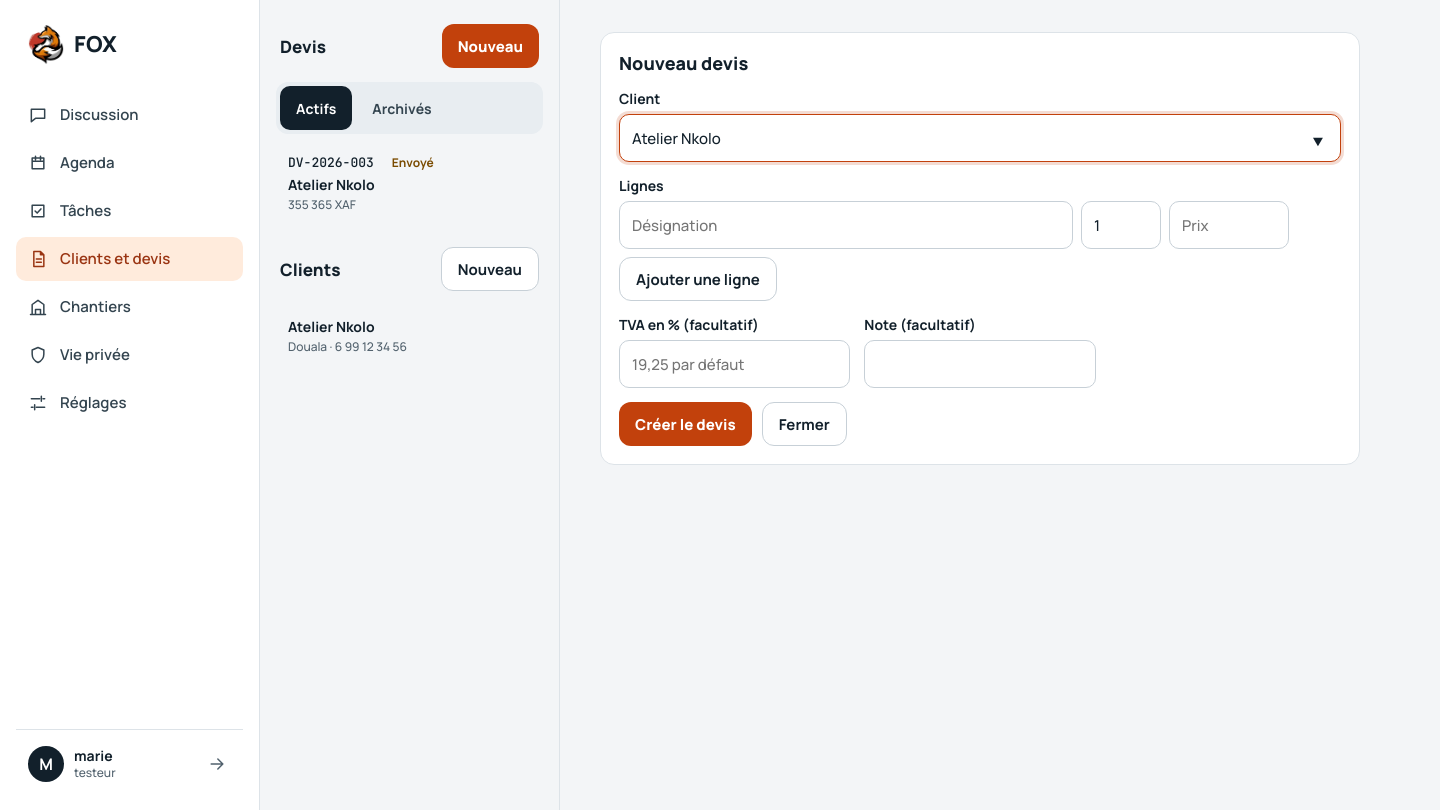
Test: Clients et devis › crée un devis au format attendu par l'API
Earlier steps of the test are not shown.
Step 1. Type "Étagères" into the field named "Désignation 1" → (846,225), box [619,201,1073,249]
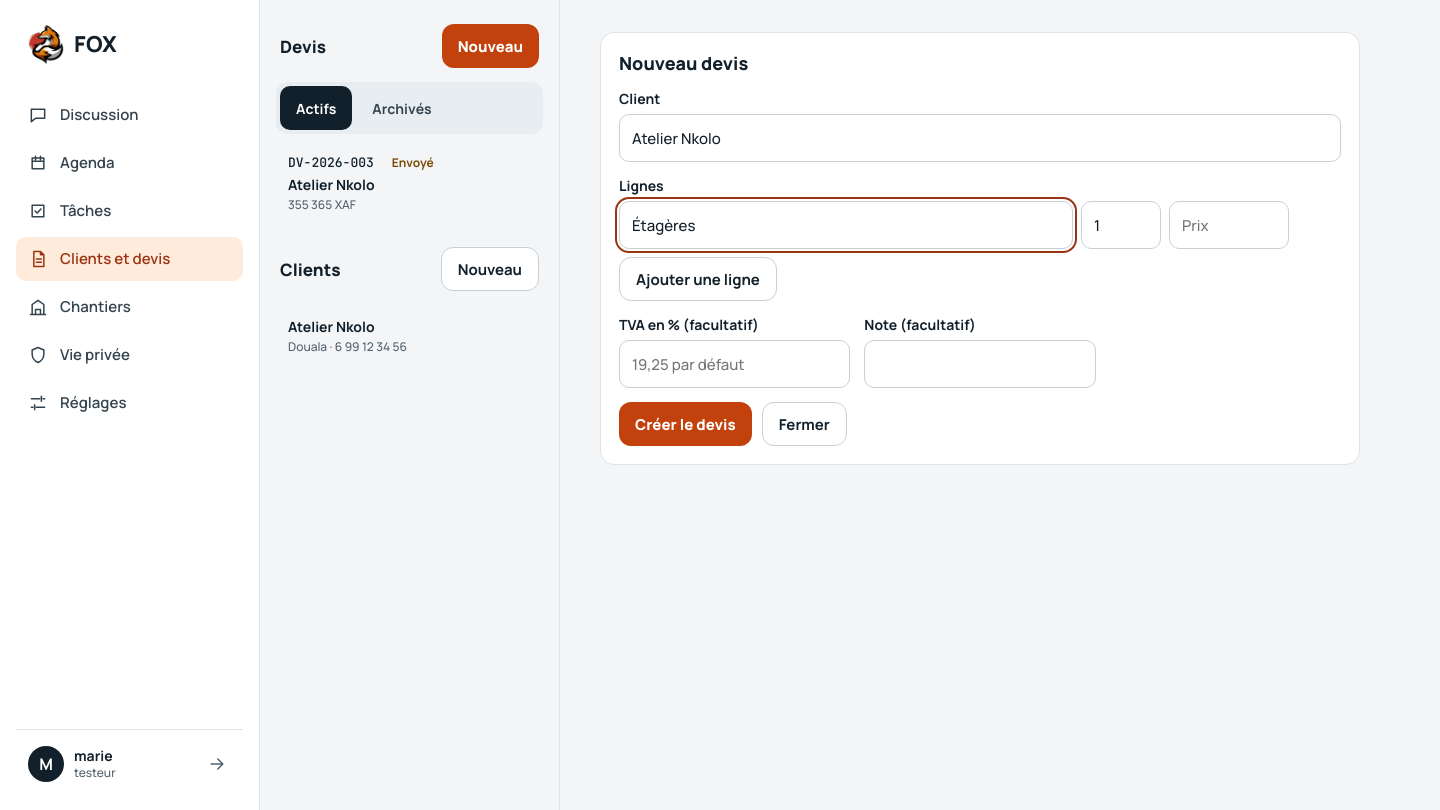
Step 2. Replace the text in the field named "Quantité 1" with "4" → (1121,225), box [1081,201,1161,249]
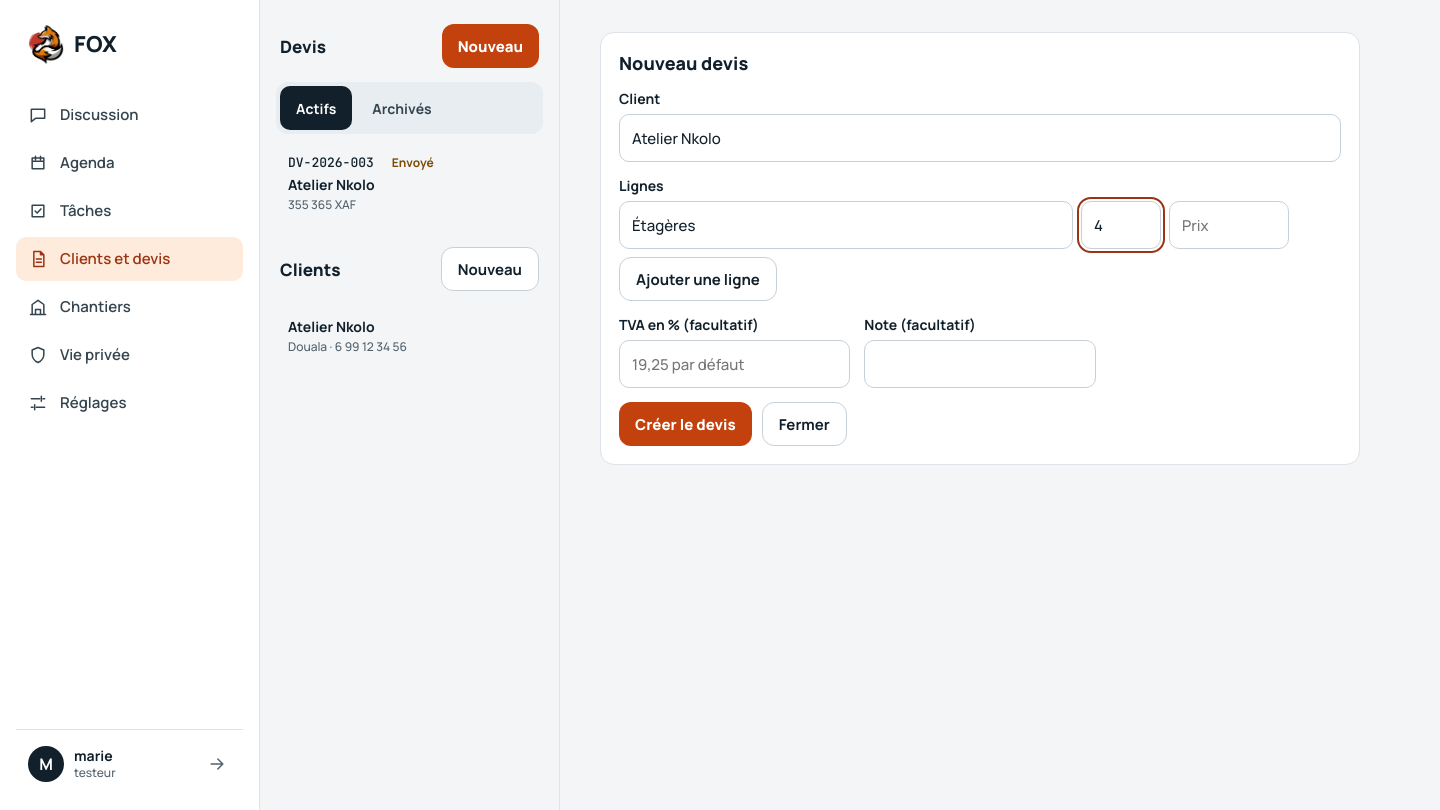
Step 3. Type "32000" into the field named "Prix unitaire 1" → (1229,225), box [1169,201,1289,249]
Step 4. Click the button "Ajouter une ligne" → (698,279), box [619,257,777,301]
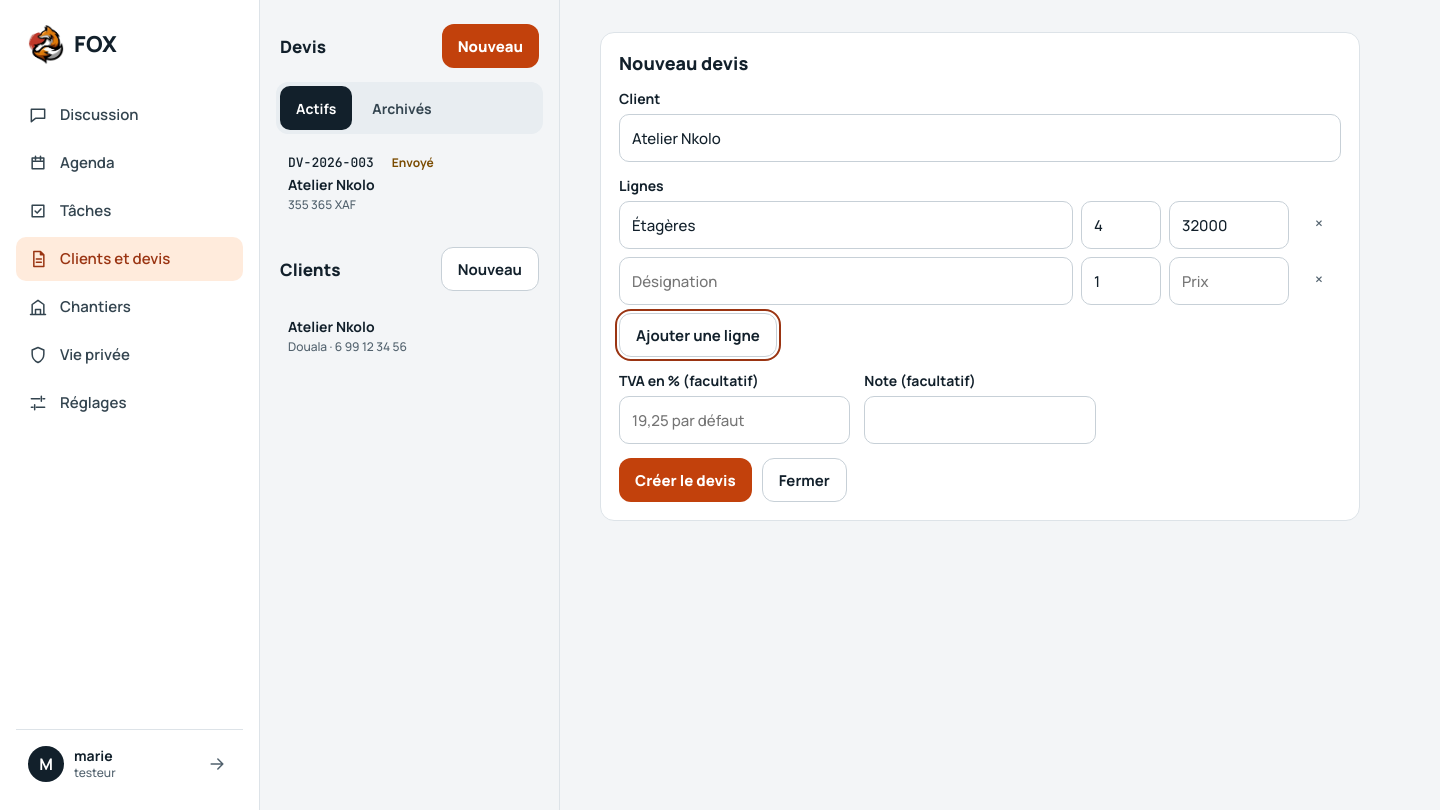
Step 5. Type "Pose" into the field named "Désignation 2" → (846,281), box [619,257,1073,305]
Step 6. Type "0" into the field named "Prix unitaire 2" → (1229,281), box [1169,257,1289,305]
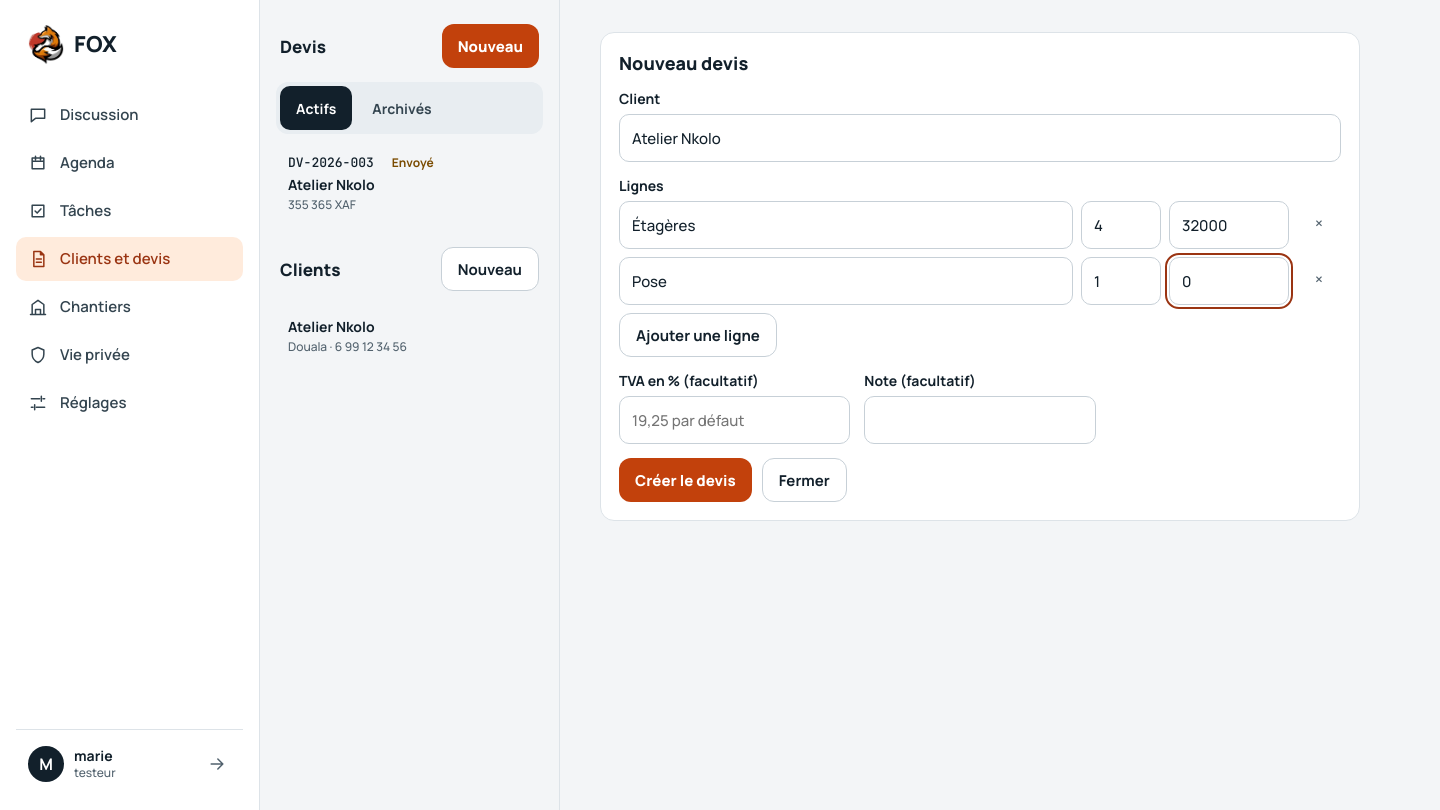
Step 7. Type "18" into the field labelled "TVA en % (facultatif)" → (735,420), box [619,396,850,444]
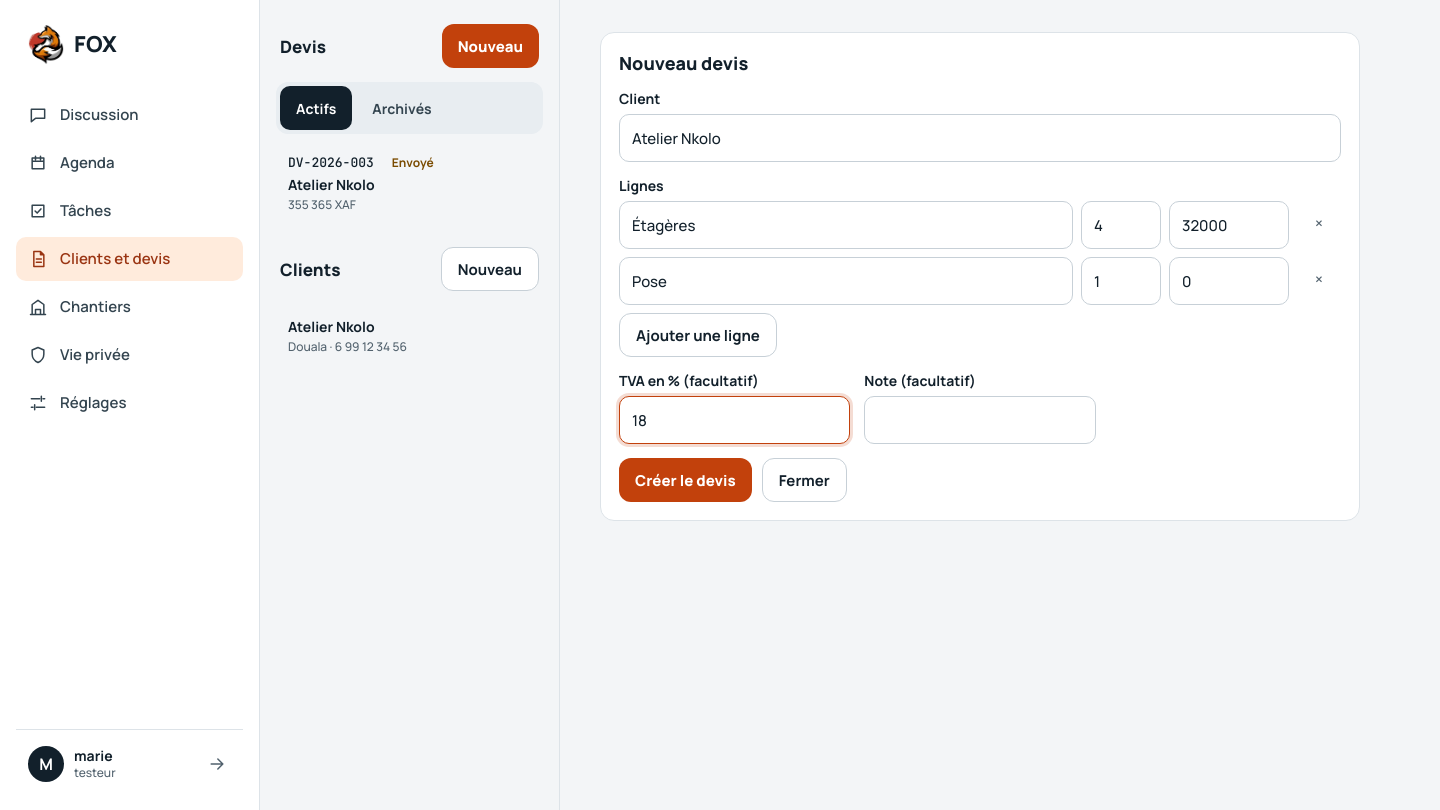
Step 8. Click the button "Créer le devis" → (685,480), box [619,458,752,502]
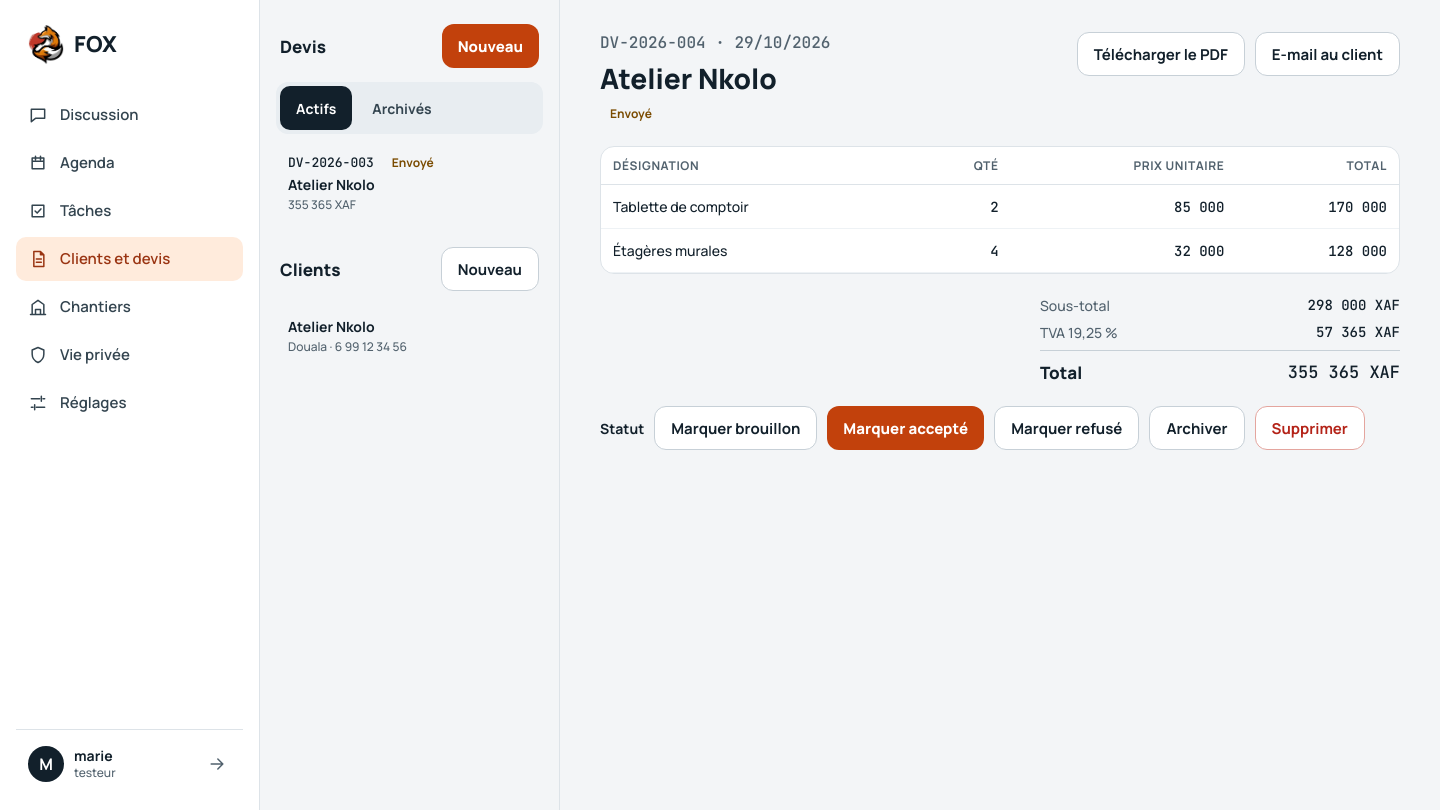
Result: the element named "Lignes du devis" is shown at [600,146,1400,274]
